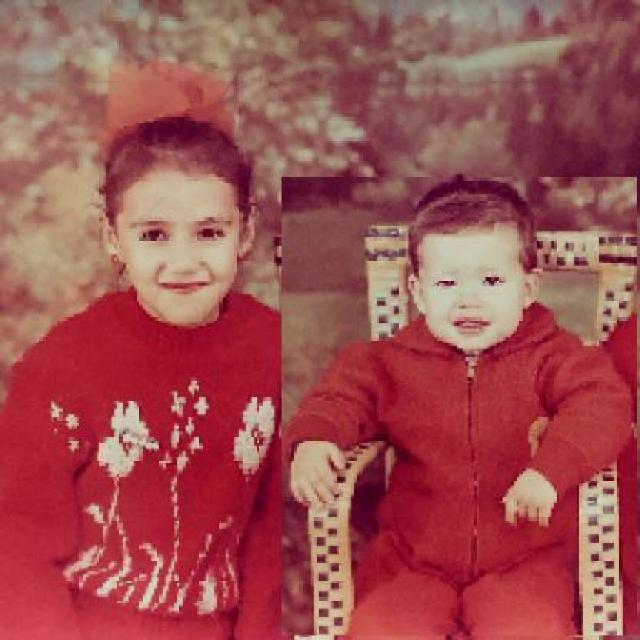child: (280, 177, 637, 637)
